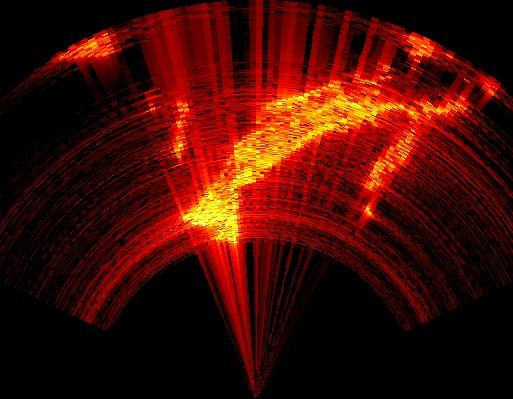shipwreck: (186, 85, 468, 239), (363, 127, 421, 216), (51, 30, 124, 65), (173, 105, 191, 158)
